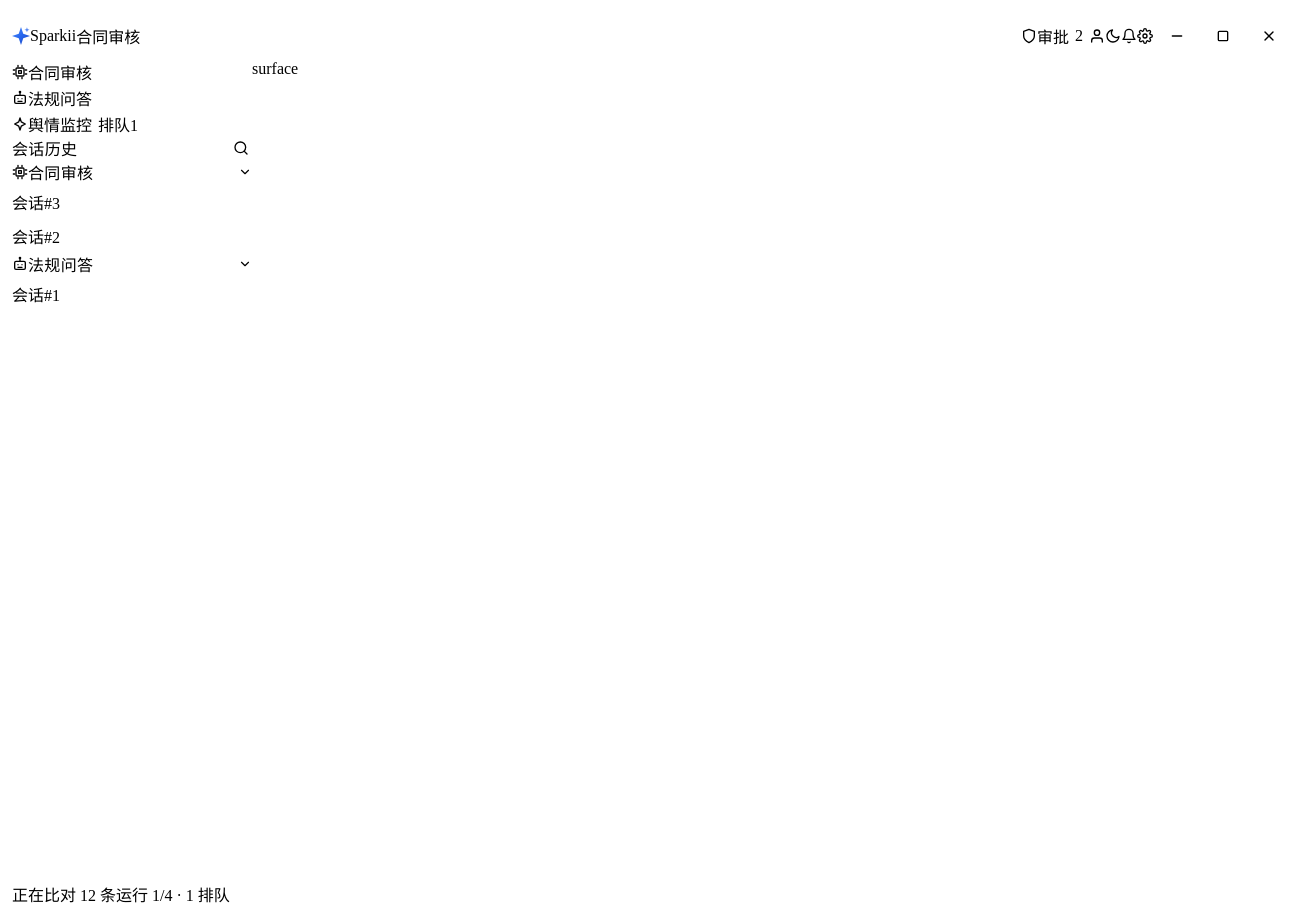
Shell › filters session history by the search query
This screenshot has width=1304, height=912.
Click the button titled "搜索会话" at (241, 148), box [230,137,252,159]
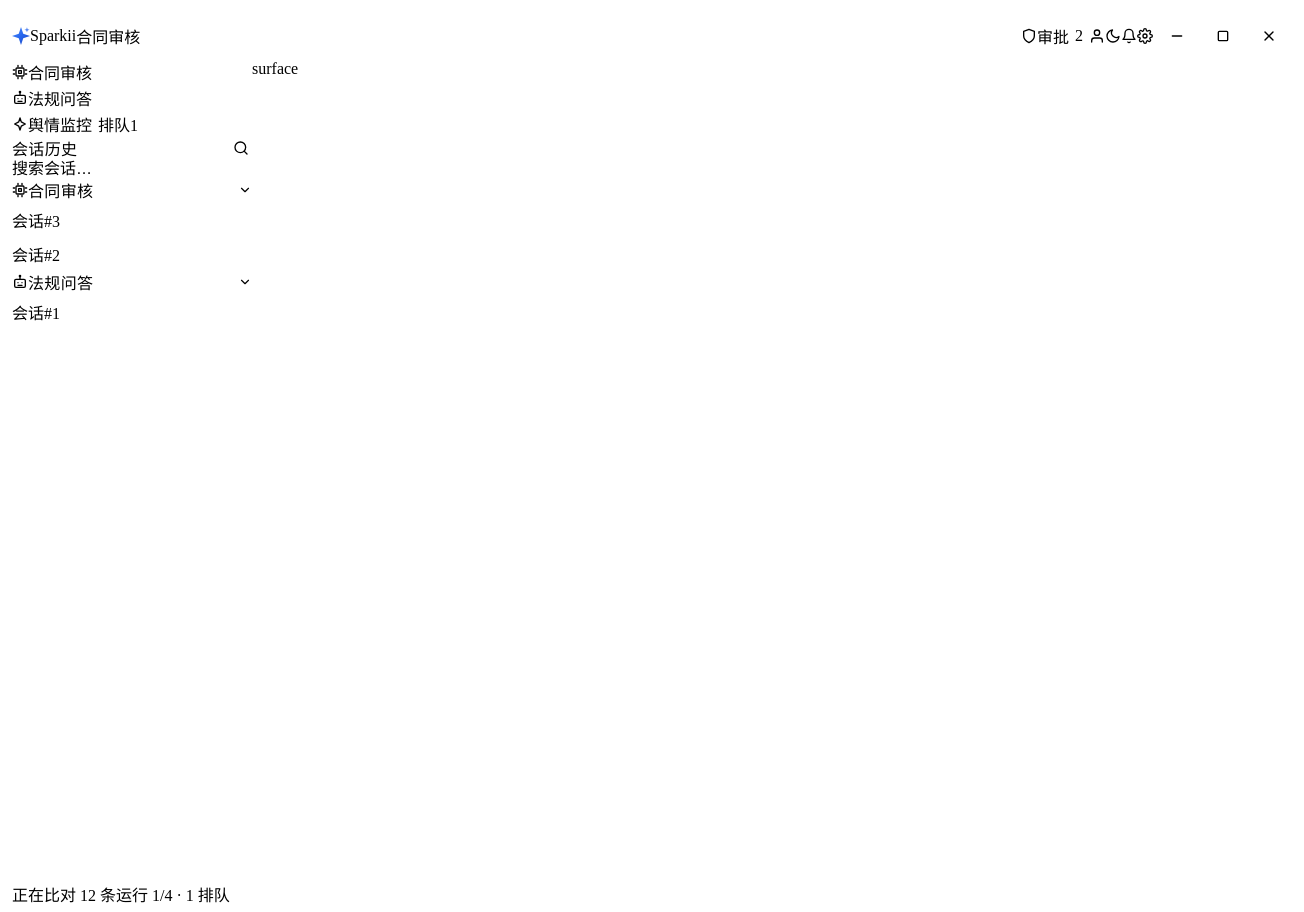
Type "会话#3" into the field with placeholder "搜索会话…" at (132, 169), box [12,160,252,178]
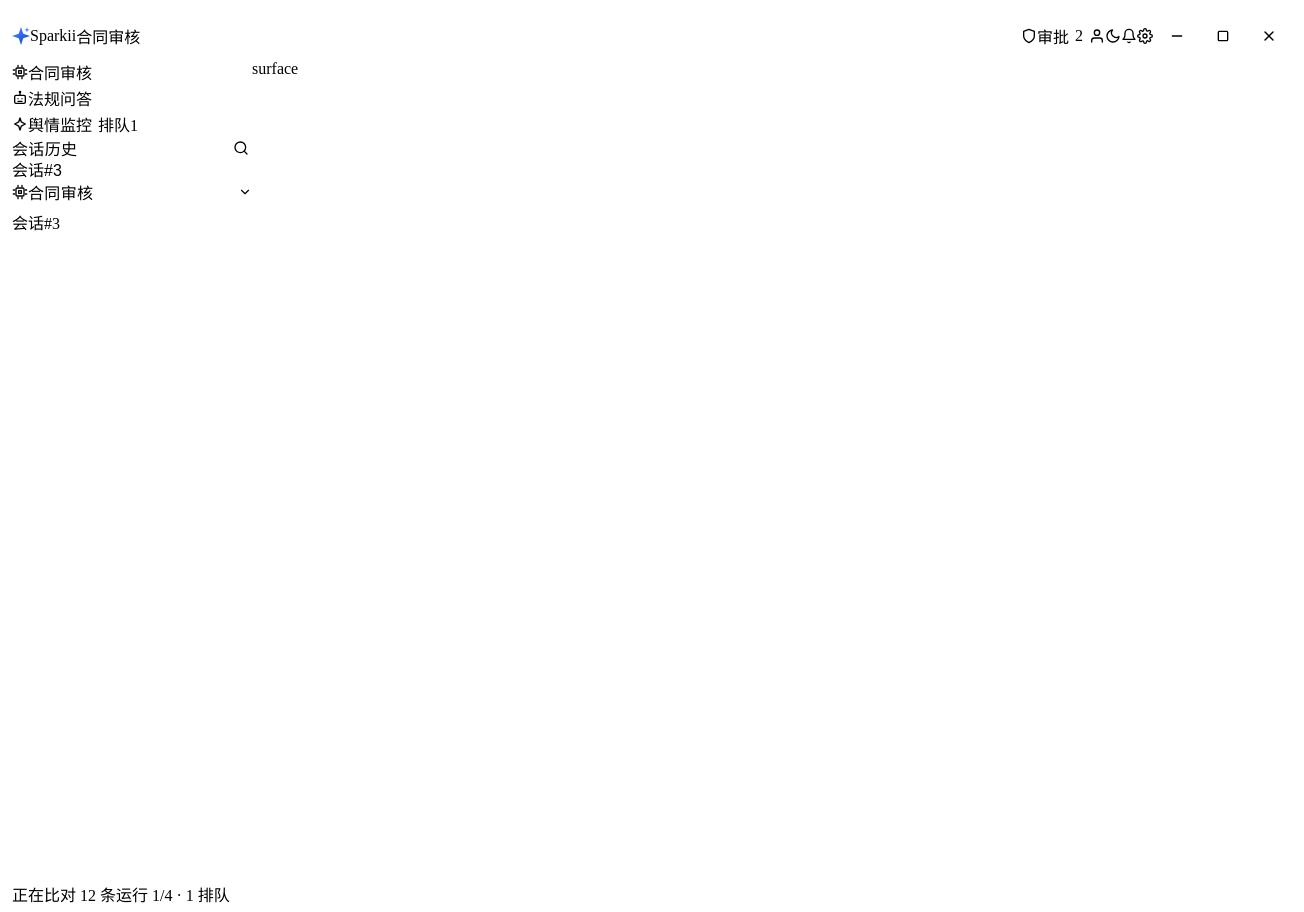
Check: the text "会话#3" is shown, box [12,215,60,232]
Check: the text "会话#2" is gone
Check: the text "会话#1" is gone
